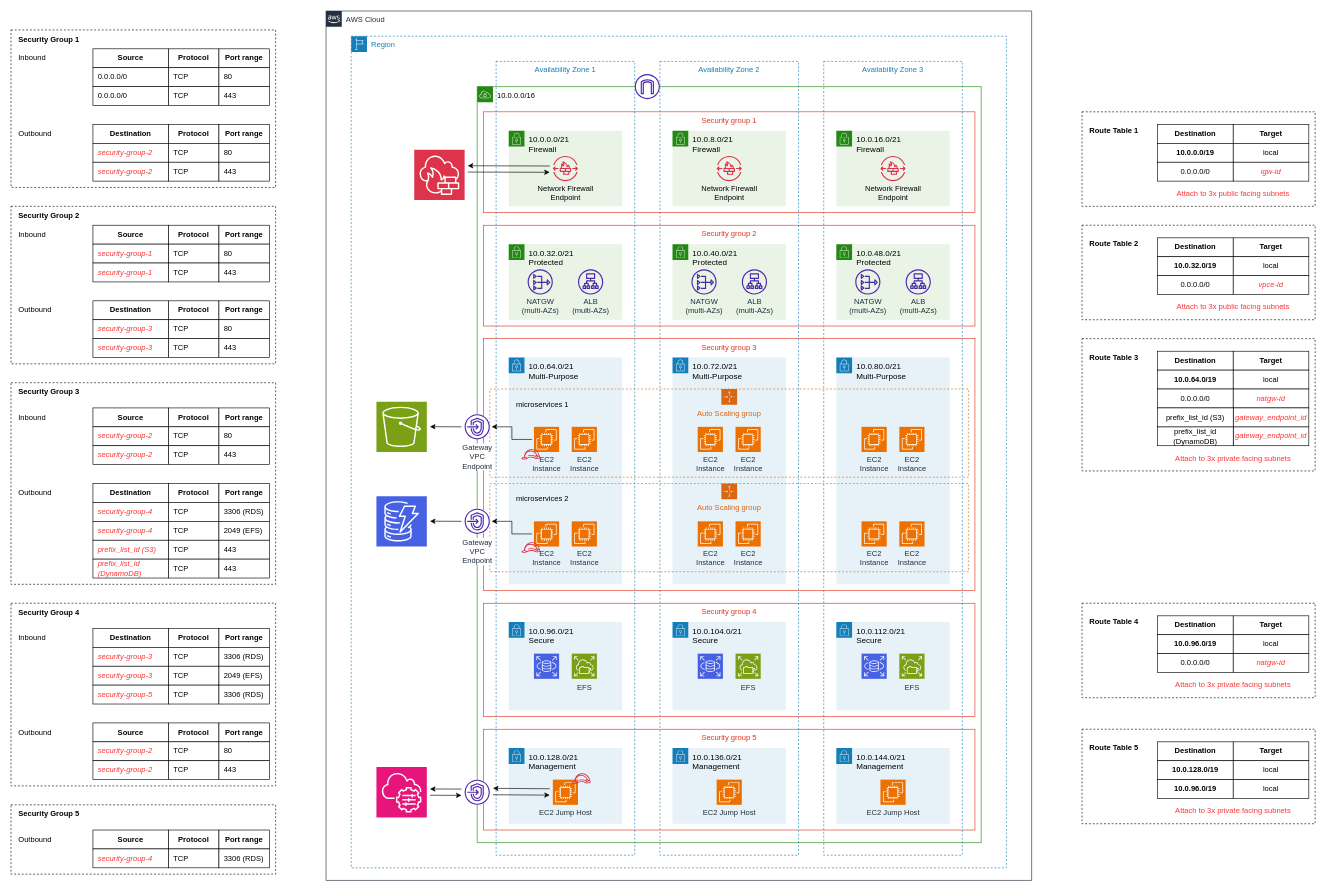
Image size: 1326x891. Some labels were removed from this diagram. Here are the shapes that lost their labels. From the top down, the centre of each, then its label:
At (x=647, y=86): "IGW".
At (x=439, y=174): "AWS Network Firewall".
At (x=401, y=426): "S3".
At (x=401, y=521): "DynamoDB".
At (x=546, y=666): "RDS (Primary)".
At (x=710, y=666): "RDS (Failover)".
At (x=874, y=666): "RDS".
At (x=401, y=791): "AWS Manager (Session Manager)".
At (x=477, y=792): "VPC Endpoint".
